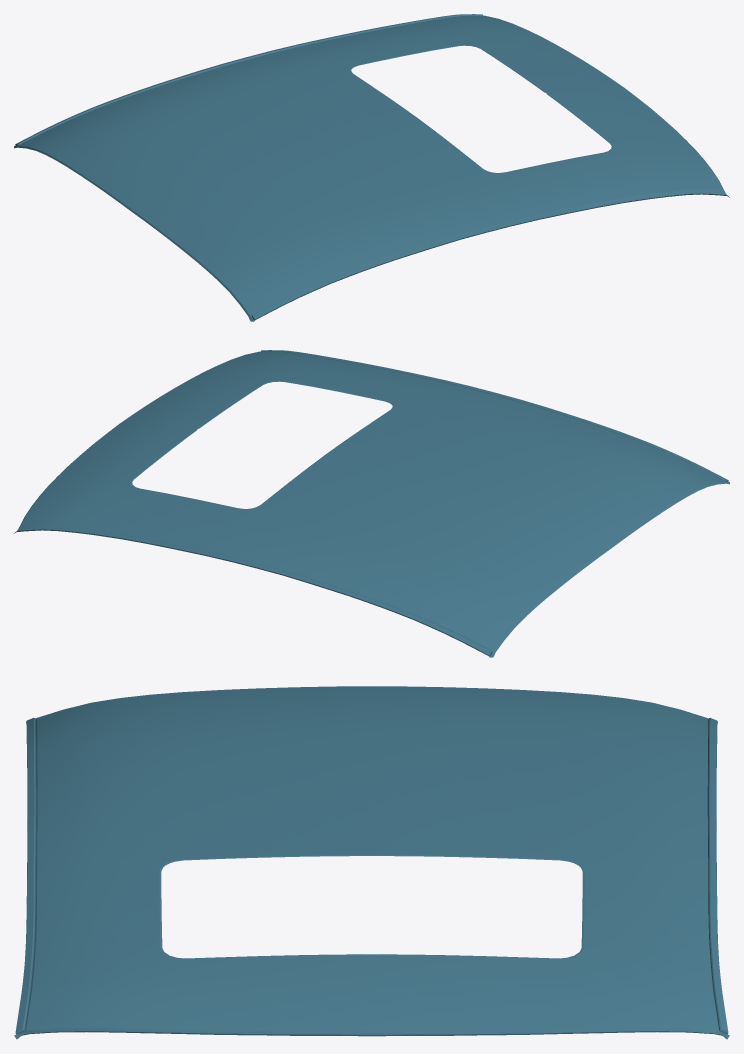
The picture shows the model from 3 angles, top to bottom: view 1: azimuth 30°, elevation 25°; view 2: azimuth 150°, elevation 25°; view 3: azimuth 270°, elevation 25°; orthographic projection. The views are drawn at different scales.
Visible parts, largest first — view 1: Y175_18_341B_C_1_DaS_Y175_18_341B_C, Y175_18_341B_C_1_DaS_Y175_18_341B_C_E; view 2: Y175_18_341B_C_1_DaS_Y175_18_341B_C, Y175_18_341B_C_1_DaS_Y175_18_341B_C_E; view 3: Y175_18_341B_C_1_DaS_Y175_18_341B_C, Y175_18_341B_C_1_DaS_Y175_18_341B_C_E.
Boxes of the visible parts, x1,y1,x2,y2 form: Y175_18_341B_C_1_DaS_Y175_18_341B_C: (15, 14, 729, 321); Y175_18_341B_C_1_DaS_Y175_18_341B_C_E: (14, 14, 728, 321); Y175_18_341B_C_1_DaS_Y175_18_341B_C: (14, 350, 728, 657); Y175_18_341B_C_1_DaS_Y175_18_341B_C_E: (15, 350, 729, 657); Y175_18_341B_C_1_DaS_Y175_18_341B_C: (14, 686, 728, 1039); Y175_18_341B_C_1_DaS_Y175_18_341B_C_E: (15, 718, 729, 1038).
Bounding box in the file's own units: 145 × 13.23 × 126.
